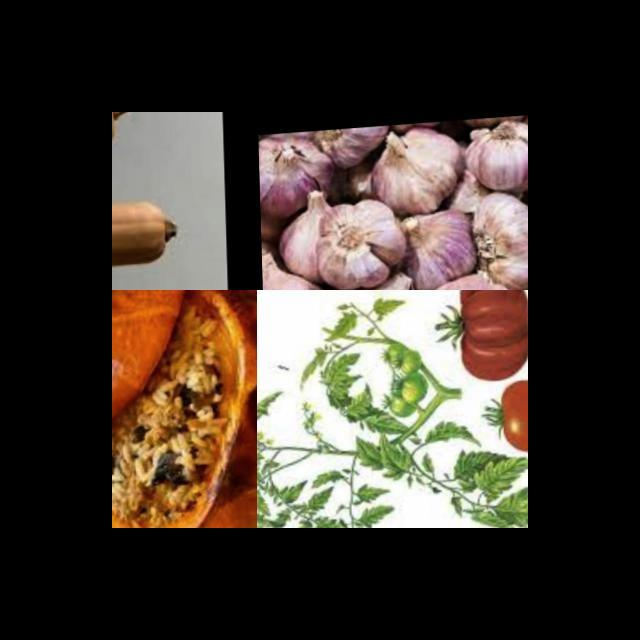garlic: (257, 112, 528, 290)
tomato: (431, 290, 528, 399), (491, 372, 528, 470)
